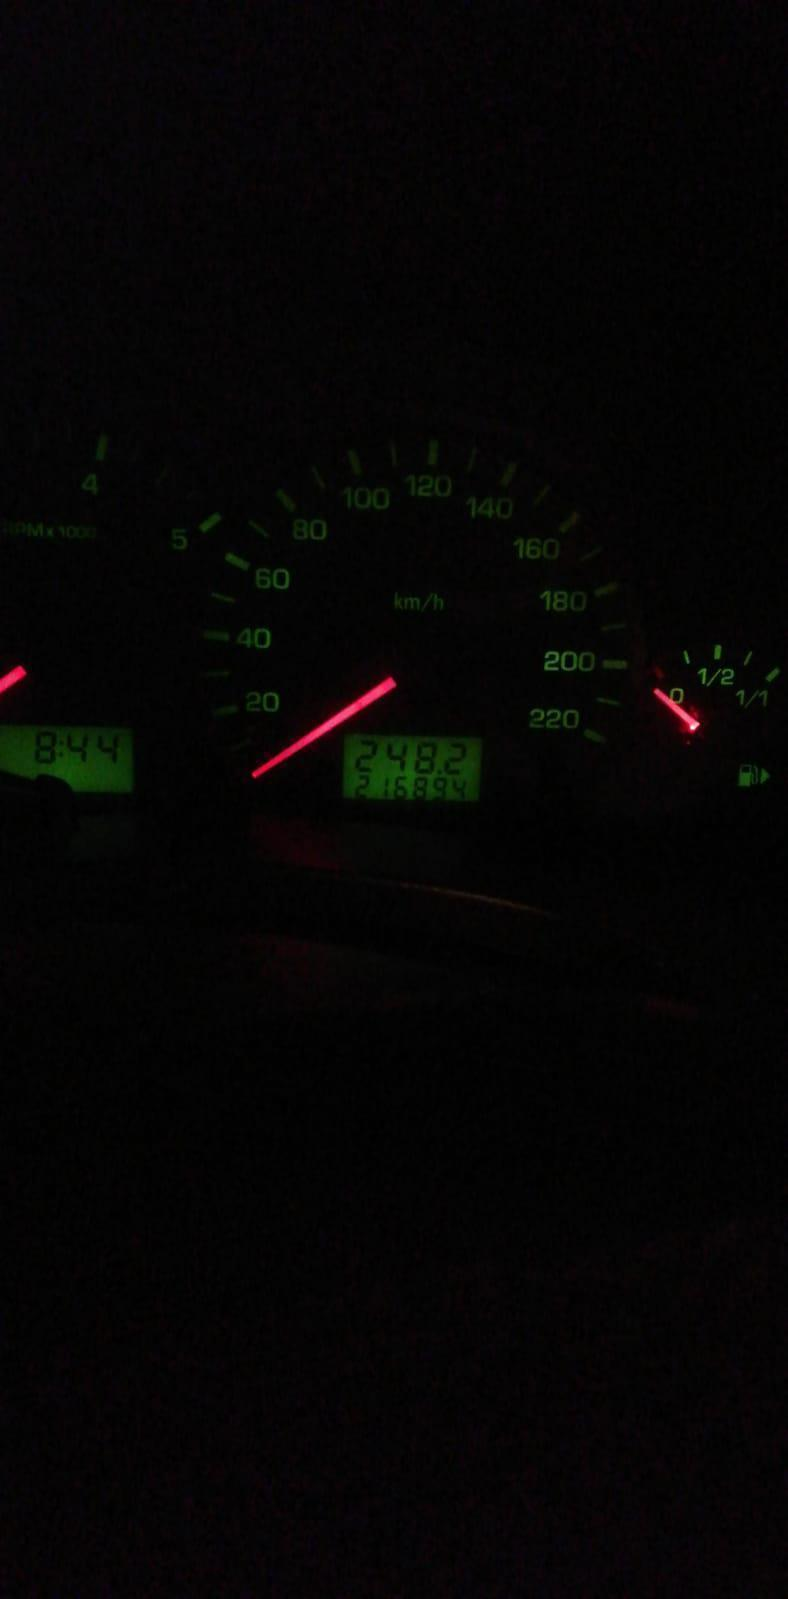,: (436, 768, 443, 775)
1: (381, 775, 391, 799)
2: (354, 738, 377, 772), (443, 742, 466, 775), (354, 774, 369, 799)
4: (385, 742, 409, 771), (452, 778, 467, 799)
6: (393, 775, 407, 799)
8: (414, 741, 436, 774), (413, 776, 427, 799)
9: (431, 777, 448, 799)
odometer: (338, 727, 486, 807)
